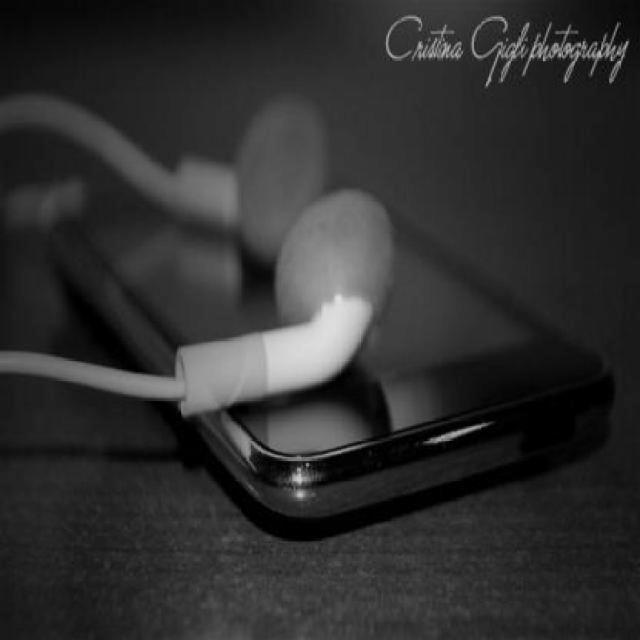fake: (99, 263, 621, 525)
